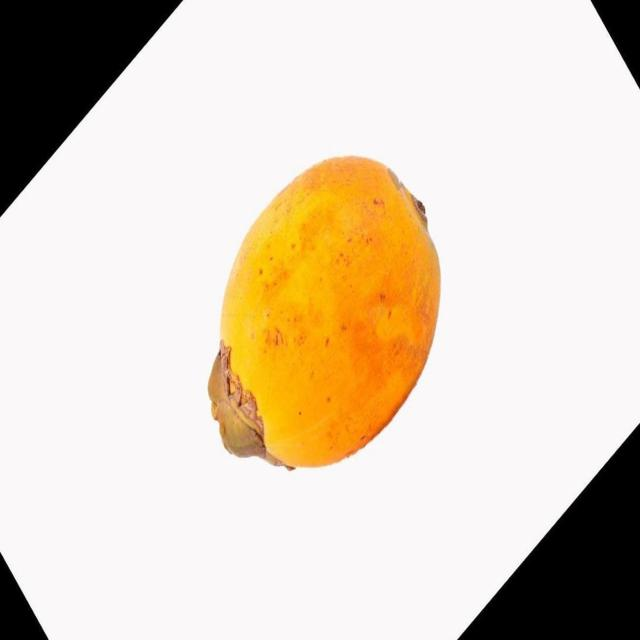good: (206, 157, 443, 472)
